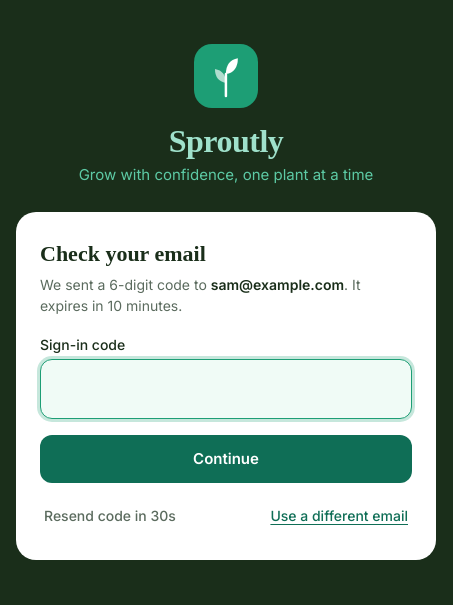
Test: Code screen › sends a fresh code when the old one expired
In the field labelled "Sign-in code": (226, 389) [40, 359, 412, 419], type "123456"
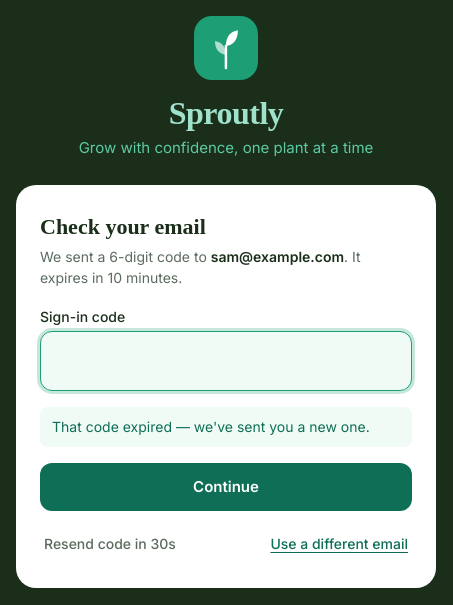
Expected: the message reads "That code expired — we've sent you a new one.", [52, 418, 370, 435]
